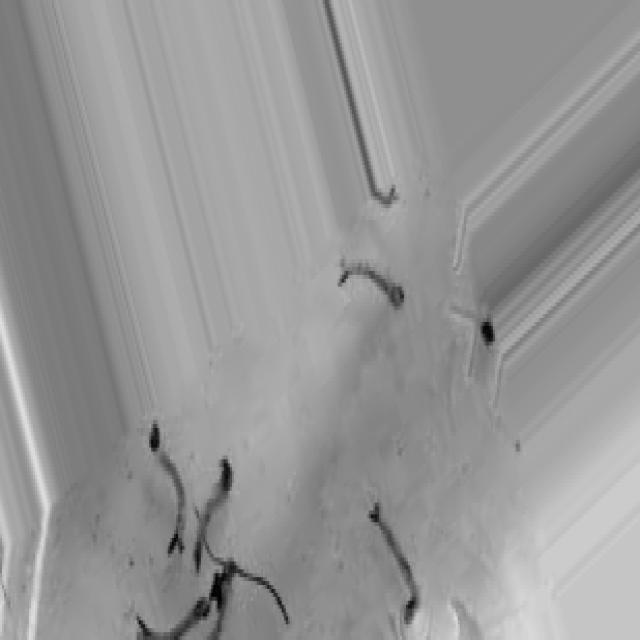larvas: (370, 504, 418, 622), (149, 421, 186, 555), (194, 453, 230, 570), (338, 266, 403, 309), (136, 600, 208, 634), (207, 573, 226, 640)
